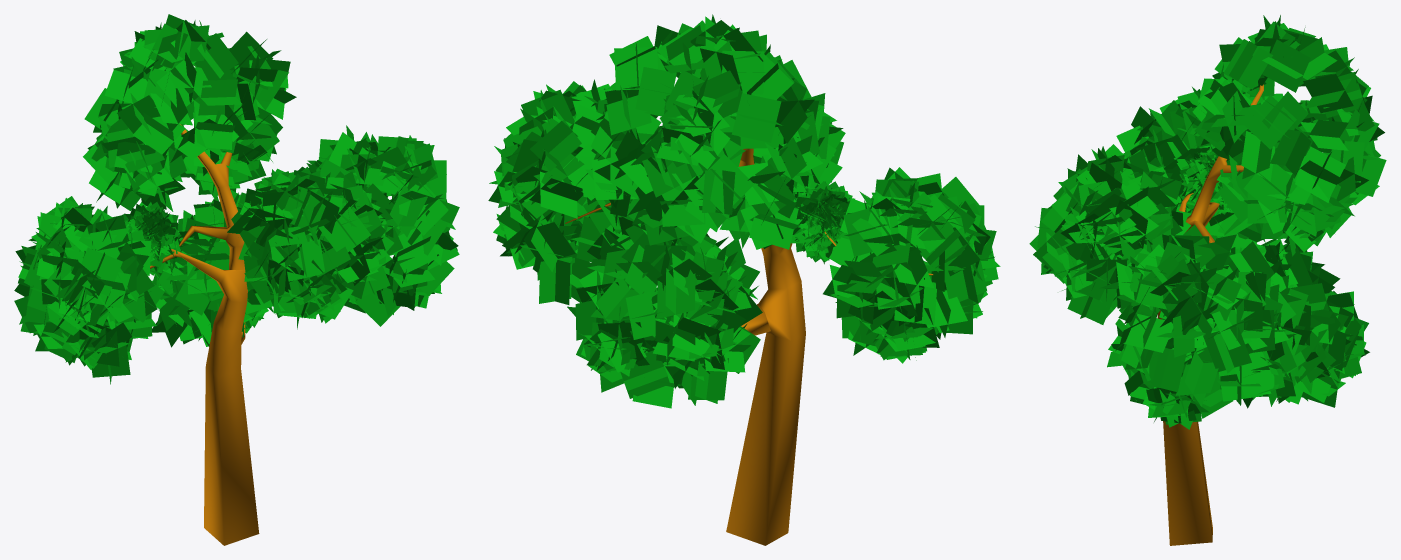
The model's file is pin.fbx.
3 views of the same model, side by side, from view 1: azimuth 30°, elevation 25°; view 2: azimuth 150°, elevation 25°; view 3: azimuth 270°, elevation 25° (orthographic). The views are drawn at different scales.
Parts seen in each view (by area): view 1: arbre pin; view 2: arbre pin; view 3: arbre pin.
Boxes of the visible parts, <box> form: arbre pin: <box>14,14,459,545</box>; arbre pin: <box>488,14,1000,545</box>; arbre pin: <box>1029,15,1386,545</box>.
Size of the model in its own units: 2.51 by 2.77 by 1.74.
